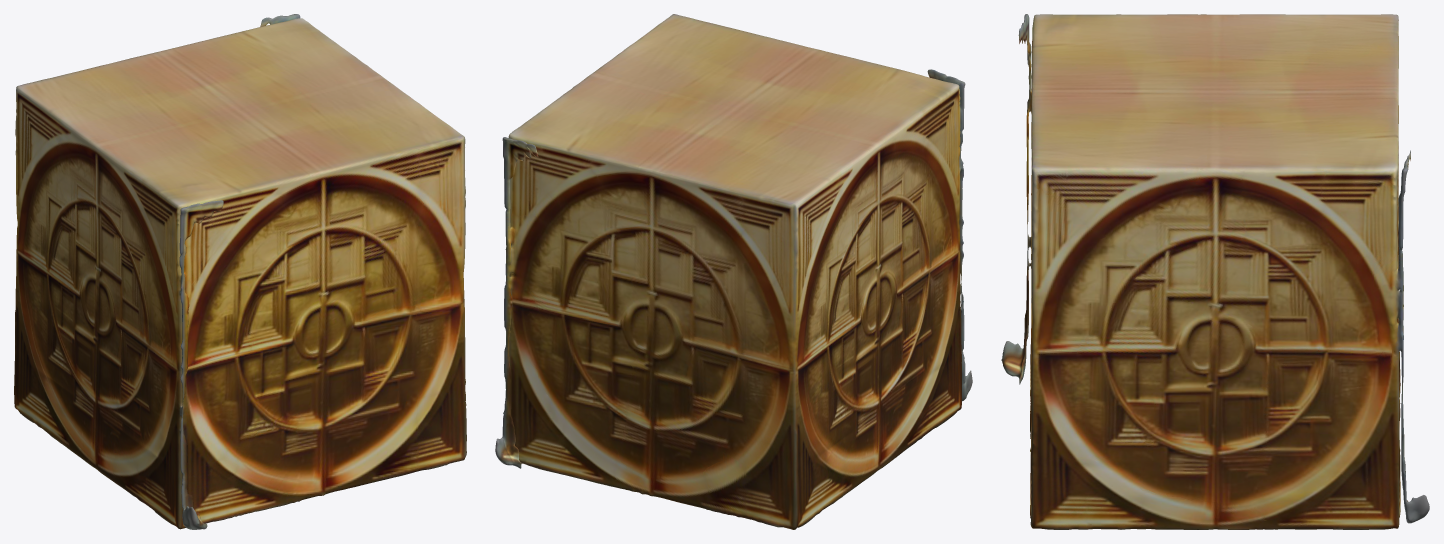
File: golden_spiral_3d.glb
3 renders of one model, left to right at view 1: azimuth 30°, elevation 25°; view 2: azimuth 150°, elevation 25°; view 3: azimuth 270°, elevation 25°, orthographic. The views are drawn at different scales.
Visible parts, largest first — view 1: tripo_node_23744aef-6237-42f5-b53e-8a6d8d1738fd; view 2: tripo_node_23744aef-6237-42f5-b53e-8a6d8d1738fd; view 3: tripo_node_23744aef-6237-42f5-b53e-8a6d8d1738fd.
Boxes of the visible parts, <box> form: tripo_node_23744aef-6237-42f5-b53e-8a6d8d1738fd: <box>14,14,466,529</box>; tripo_node_23744aef-6237-42f5-b53e-8a6d8d1738fd: <box>495,14,972,529</box>; tripo_node_23744aef-6237-42f5-b53e-8a6d8d1738fd: <box>1001,14,1429,529</box>.
Size of the model in its own units: 0.613 by 0.666 by 0.7046.
Materials: 1 (1 with a texture image).
